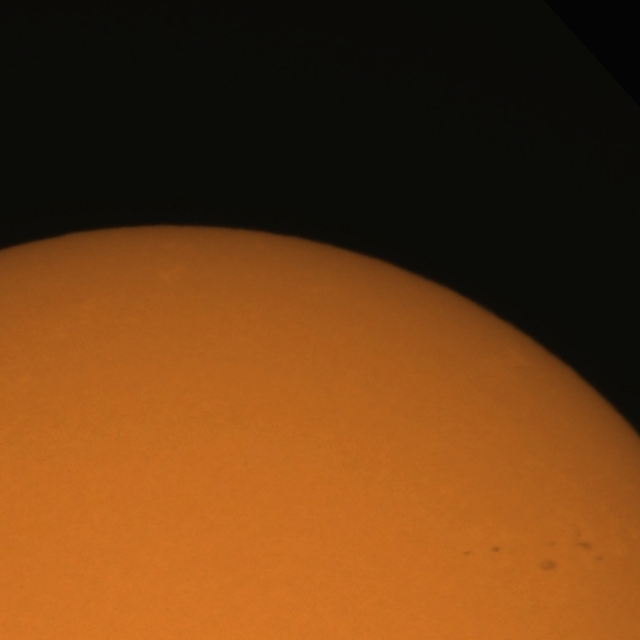sunspot: (576, 538, 604, 564), (540, 558, 558, 574), (461, 548, 474, 558), (490, 544, 501, 554)
